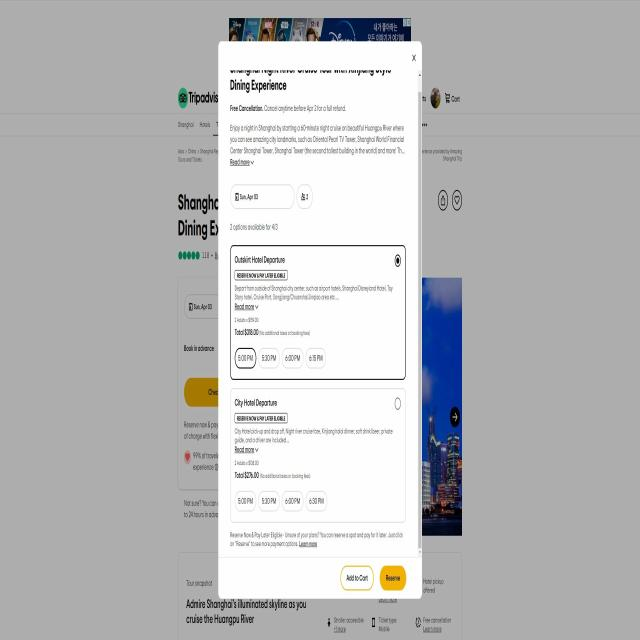button: (340, 566, 375, 592), (379, 564, 407, 592), (234, 346, 257, 369), (282, 346, 304, 370), (259, 346, 280, 369), (306, 346, 326, 369)
